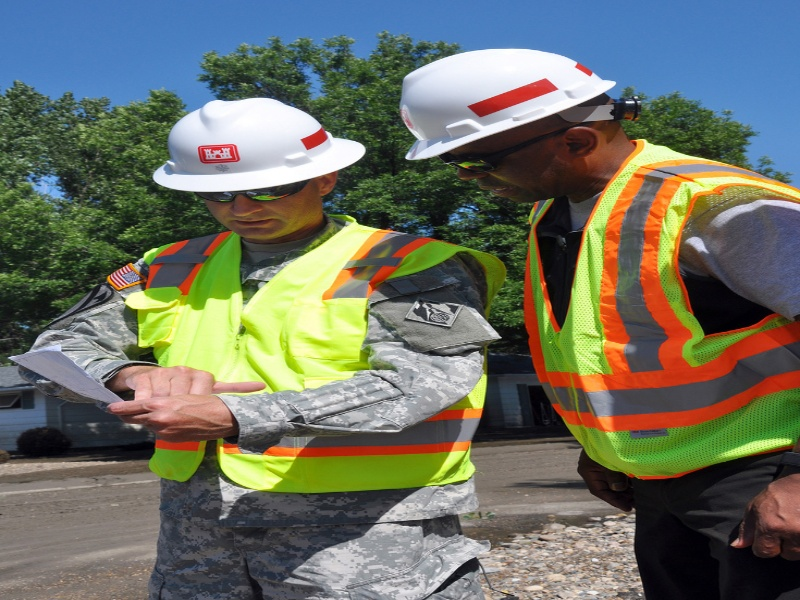Baret: (397, 46, 617, 159), (153, 97, 366, 195)
